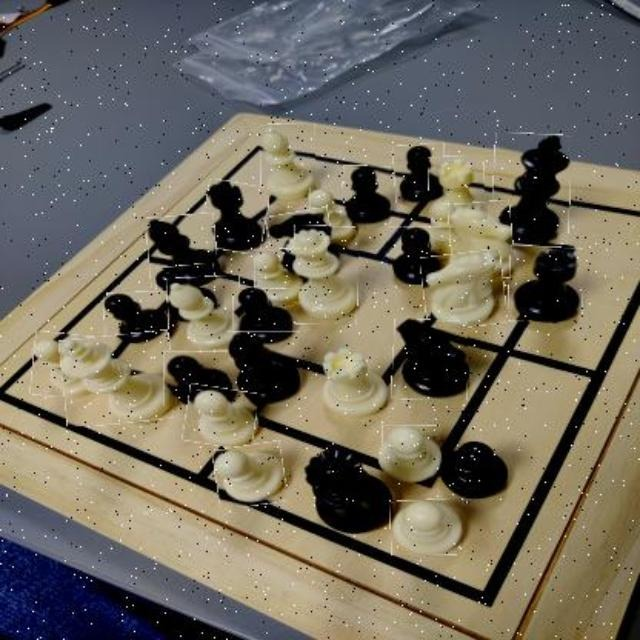black-bishop: (229, 330, 301, 405), (148, 215, 218, 288)
black-king: (493, 133, 571, 245)
black-knight: (392, 318, 468, 401), (269, 209, 335, 285)
black-pawn: (443, 438, 507, 499), (163, 351, 229, 407), (157, 265, 218, 325), (104, 292, 168, 344), (388, 226, 442, 286), (234, 288, 295, 341), (393, 144, 445, 204), (342, 166, 392, 226)
black-queen: (303, 447, 395, 535)
black-rook: (508, 246, 583, 322), (202, 181, 268, 253)
white-bishop: (168, 276, 240, 351), (261, 124, 316, 205)
white-king: (62, 333, 174, 425)
white-knight: (423, 252, 507, 330), (450, 202, 514, 282)
white-pawn: (215, 443, 287, 507), (185, 385, 257, 446), (30, 332, 93, 398), (390, 500, 463, 556), (382, 426, 442, 478), (421, 197, 469, 258), (255, 248, 302, 303), (310, 188, 354, 240)
white-queen: (290, 225, 359, 325)
white-rook: (317, 349, 387, 421), (429, 158, 485, 224)
